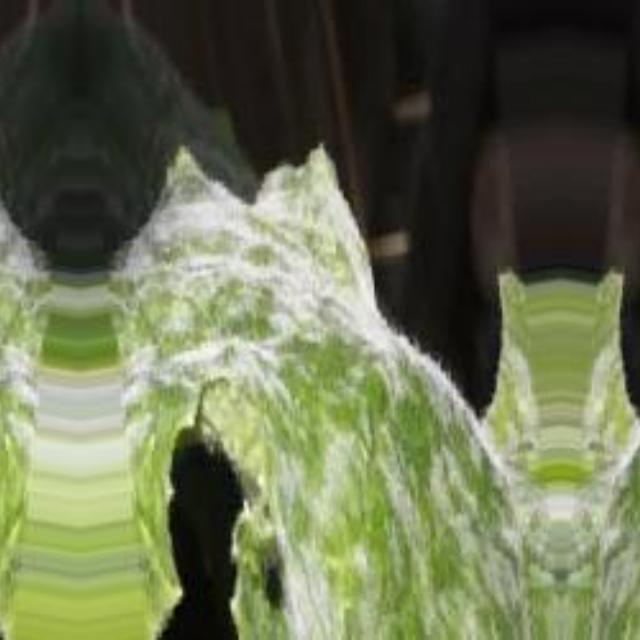Powdery_mildew: (120, 179, 446, 427), (225, 451, 550, 635), (570, 451, 640, 635), (0, 179, 37, 427)
